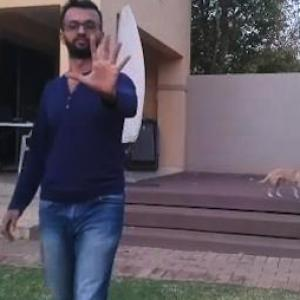follow_hand: (62, 28, 134, 98)
